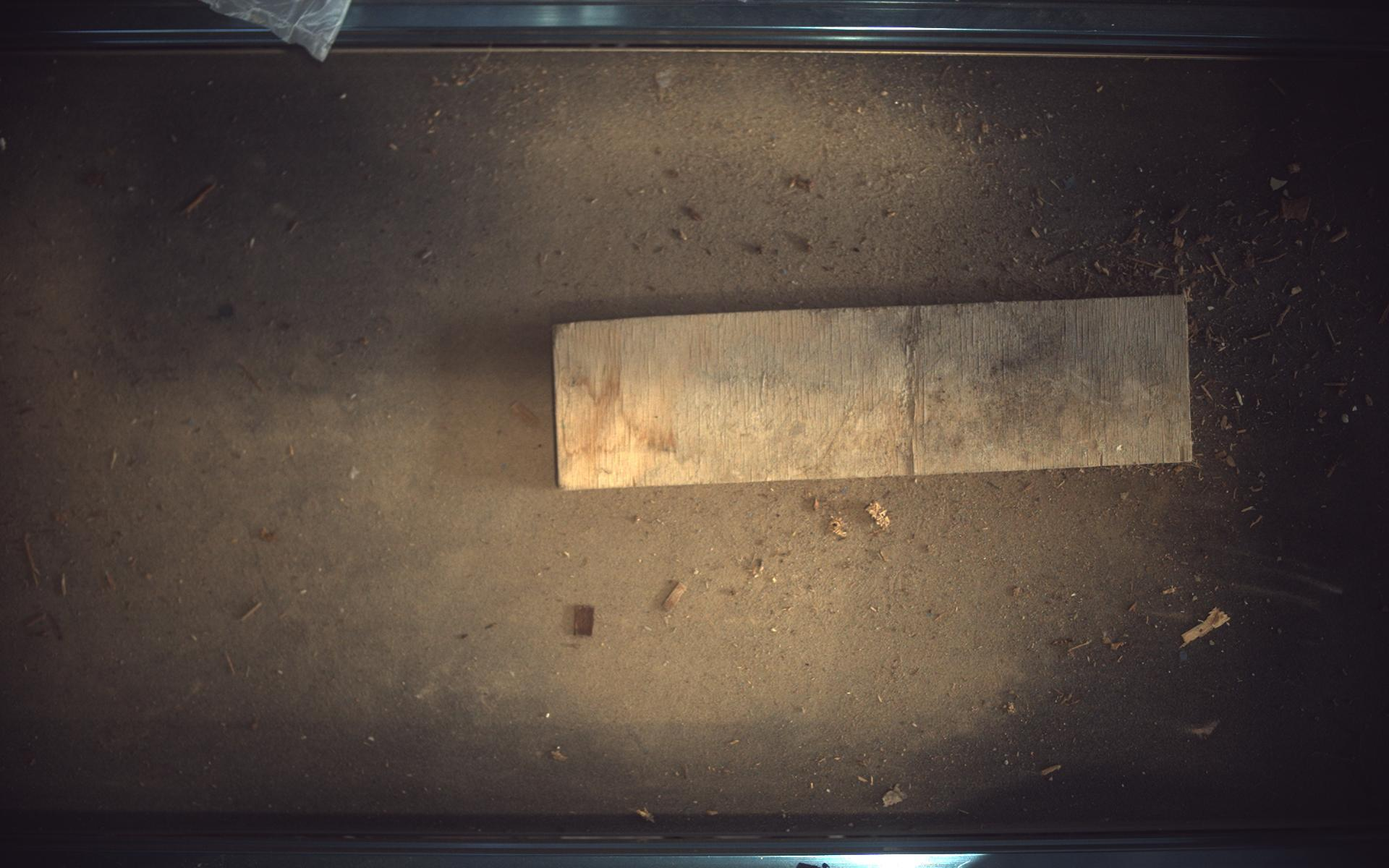wood: (554, 294, 1196, 490)
